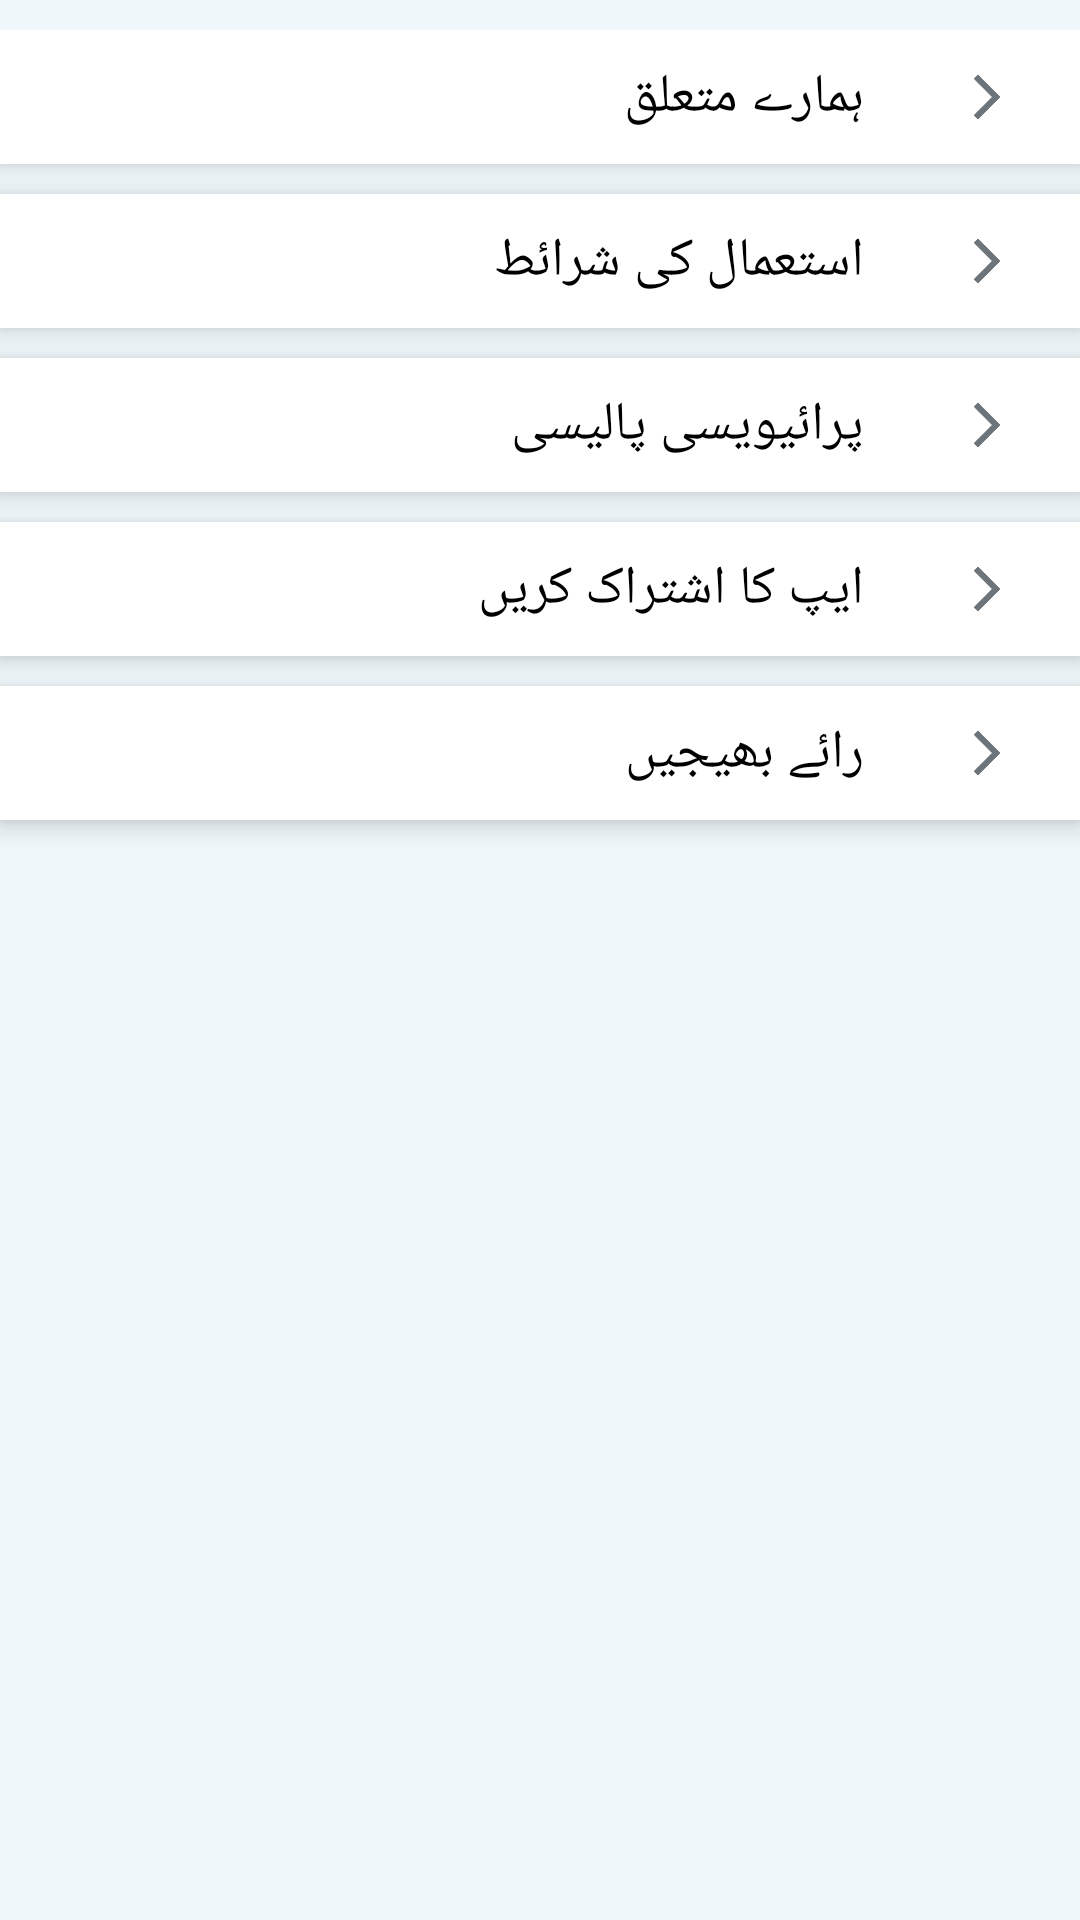

Named icons in this screenshot (1080x1920) and their centers, (x,y):
arrow: (987,97), (987,261), (987,425), (987,589), (987,753)
